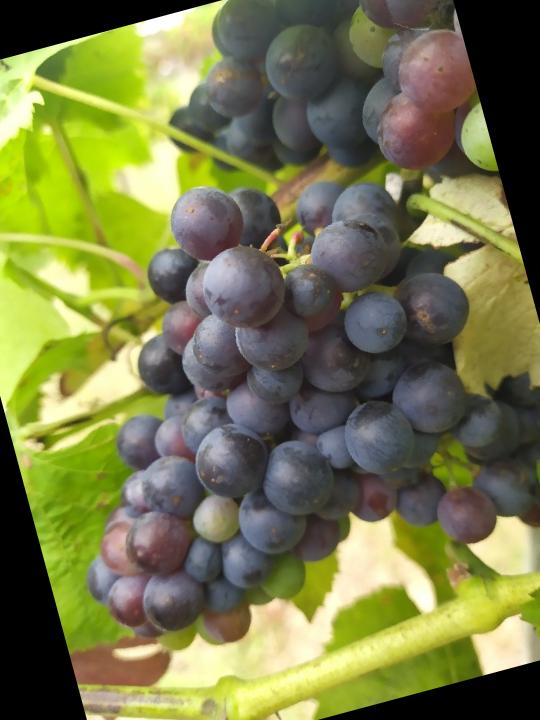grape: (0, 129, 540, 677)
